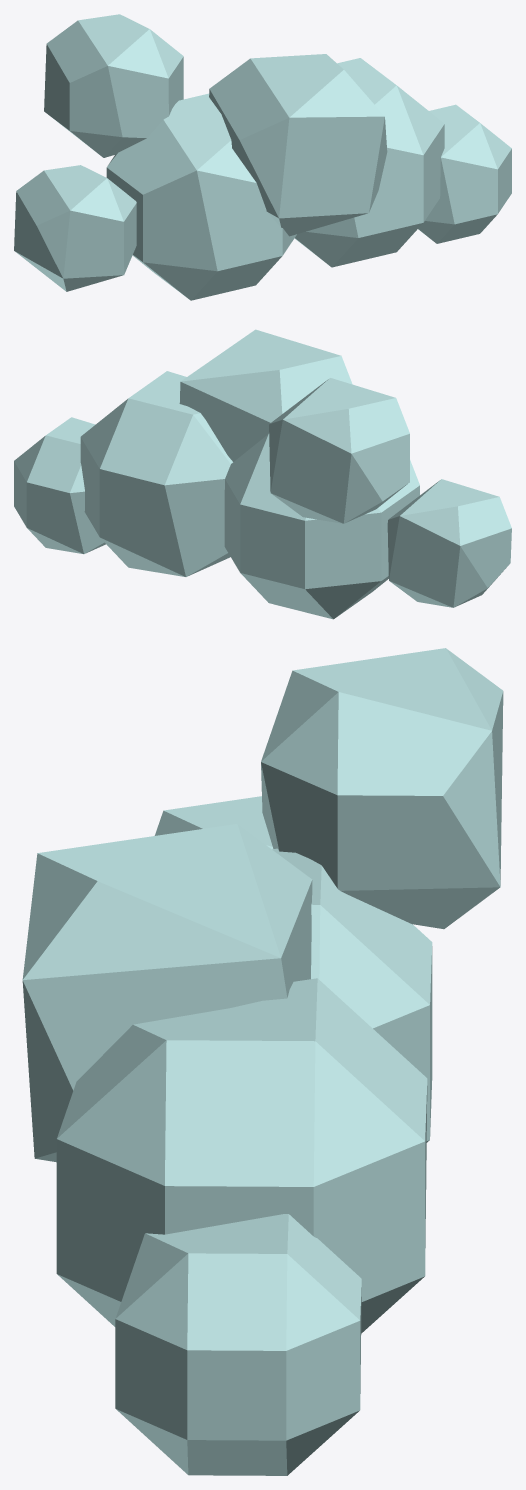
The model's file is cloud-008.glb.
The picture shows the model from 3 angles, top to bottom: view 1: azimuth 30°, elevation 25°; view 2: azimuth 150°, elevation 25°; view 3: azimuth 270°, elevation 25°; orthographic projection. The views are drawn at different scales.
Parts seen in each view (by area): view 1: cloud 20_31; view 2: cloud 20_31; view 3: cloud 20_31.
Boxes of the visible parts, left/top/right/bottom form: cloud 20_31: left=14, top=14, right=511, bottom=300; cloud 20_31: left=14, top=329, right=511, bottom=619; cloud 20_31: left=22, top=648, right=503, bottom=1475.
Bounding box in the file's own units: 1.67 × 0.8447 × 0.7396.
